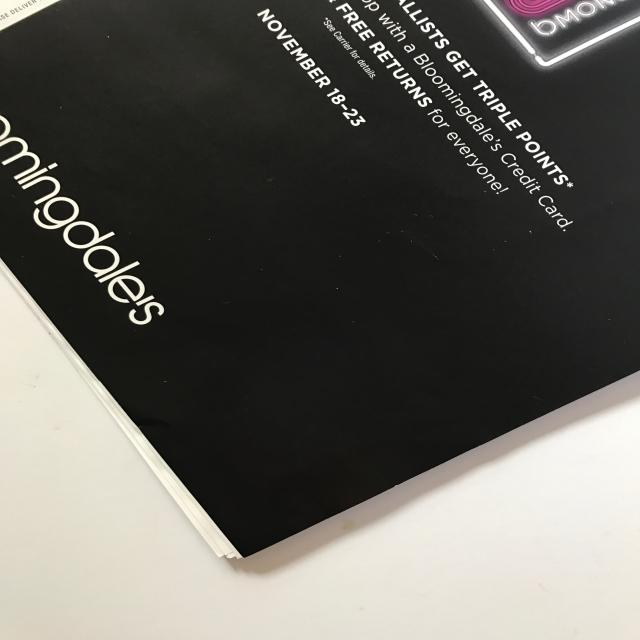paper: (1, 0, 639, 563)
